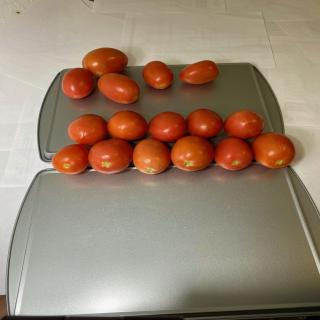Chilli: (51, 107, 296, 175)
Tomato: (251, 132, 296, 168), (170, 136, 214, 172), (88, 139, 133, 174), (132, 138, 171, 174), (82, 48, 128, 78), (97, 73, 140, 104), (67, 114, 108, 145), (214, 138, 253, 170), (107, 110, 148, 140), (223, 110, 265, 139), (52, 144, 90, 175), (148, 111, 186, 142), (186, 108, 223, 138), (179, 60, 219, 85), (62, 68, 94, 99), (142, 60, 174, 90)
